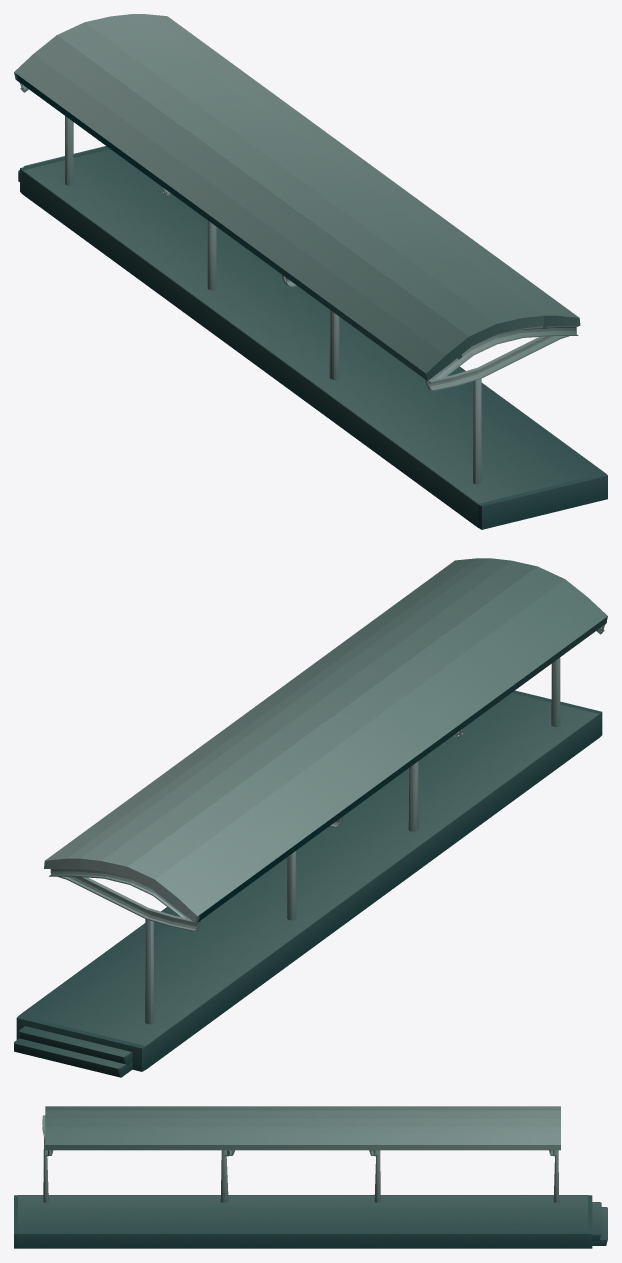
The model's file is Estacion (1).fbx.
3 views of the same model, one above another, from view 1: azimuth 30°, elevation 25°; view 2: azimuth 150°, elevation 25°; view 3: azimuth 270°, elevation 25° (orthographic). The views are drawn at different scales.
Parts seen in each view (by area): view 1: Estación; view 2: Estación; view 3: Estación.
Part boxes in pixels (x1,y1,x2,y2): Estación: (14,14,607,529); Estación: (14,558,607,1077); Estación: (14,1106,607,1248).
Size of the model in its own units: 4080 by 4406 by 21271.
Materials: 1 (1 with a texture image).
